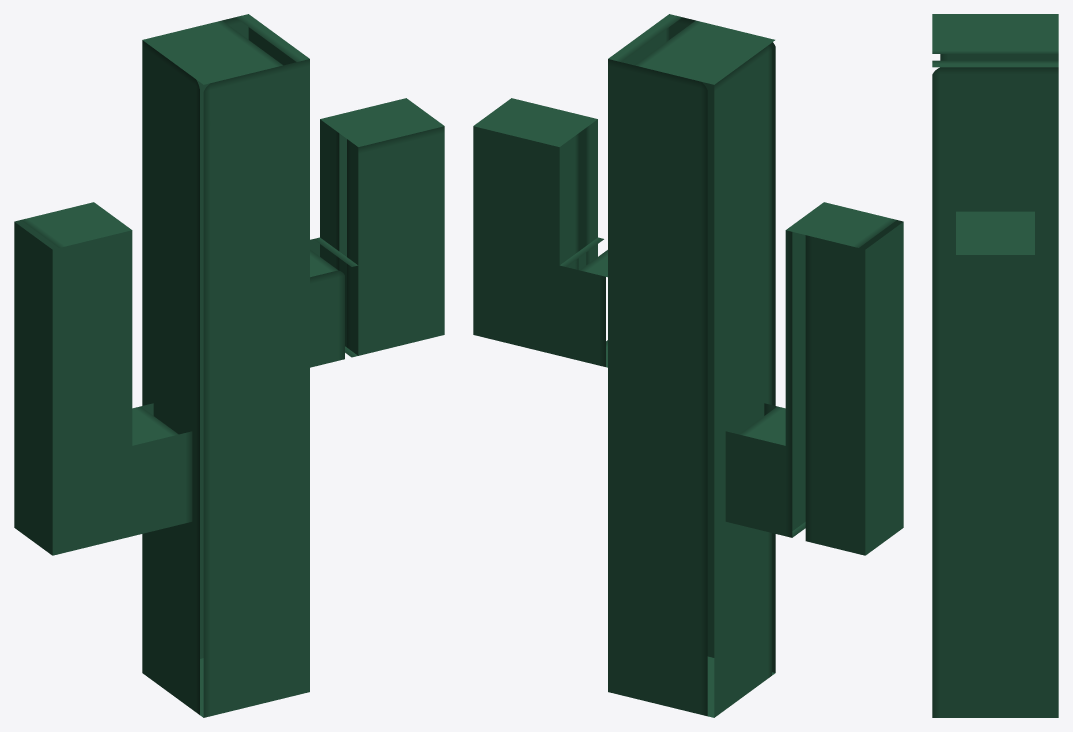
The model's file is cactus 1.dae.
3 views of the same model, side by side, from view 1: azimuth 30°, elevation 25°; view 2: azimuth 150°, elevation 25°; view 3: azimuth 270°, elevation 25° (orthographic). The views are drawn at different scales.
Visible parts, largest first — view 1: cuboid (×5); view 2: cuboid (×5); view 3: cuboid (×2).
Part boxes in pixels (<box>): cuboid (×5): <box>14,14,444,717</box>; cuboid (×5): <box>473,14,903,717</box>; cuboid (×2): <box>932,14,1058,717</box>.
Size of the model in its own units: 3.69 by 5.69 by 1.
Materials: 1 (1 with a texture image).
